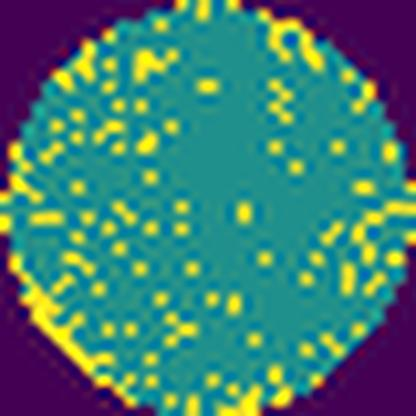Edge-Loc: (4, 242, 114, 388), (256, 10, 331, 76), (211, 379, 288, 416)
